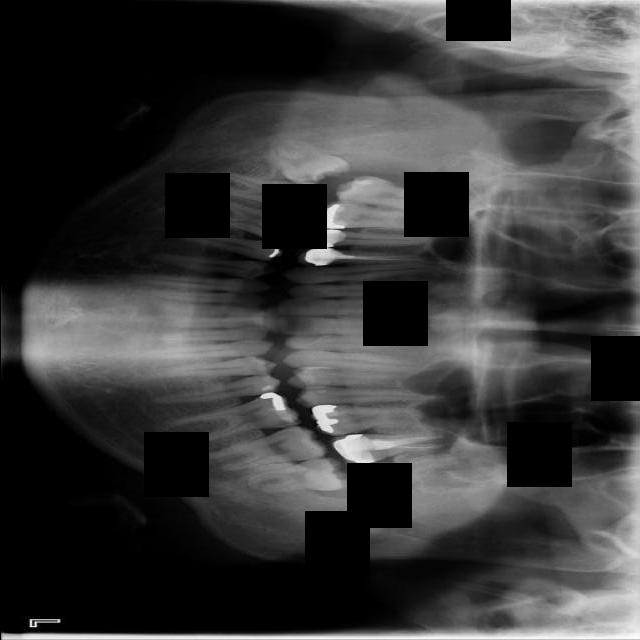52: (240, 383, 302, 444), (326, 426, 380, 474), (266, 176, 326, 216), (241, 210, 302, 243), (310, 404, 362, 437), (314, 201, 366, 229), (238, 371, 282, 398), (299, 224, 343, 250), (295, 245, 342, 269), (239, 239, 283, 262)
73: (365, 430, 451, 461), (339, 250, 428, 265), (64, 590, 88, 594)
BioHorizons Implant: (327, 431, 451, 469)
BioLife Implant: (350, 452, 464, 498)
Biomet 3i Implant: (246, 457, 350, 493)
Blue Sky Bio Implant: (200, 421, 330, 476)
Caries: (333, 170, 455, 221)
Implant: (201, 170, 326, 215)
Keystone Dental Implant: (259, 129, 351, 199)
